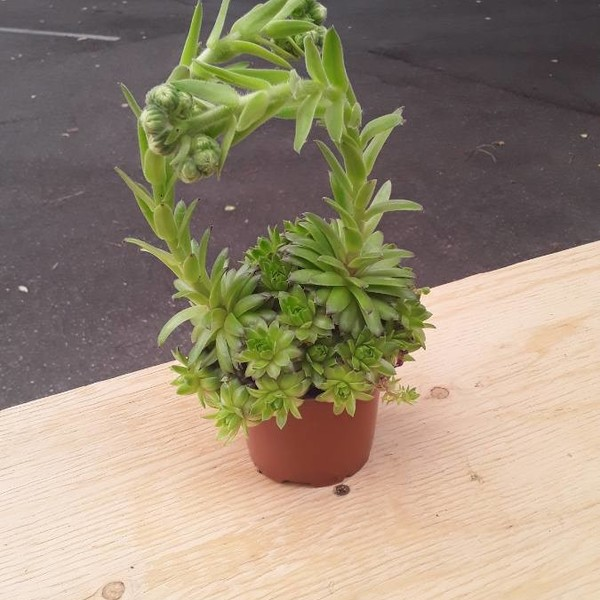obstacle: (127, 39, 451, 482)
